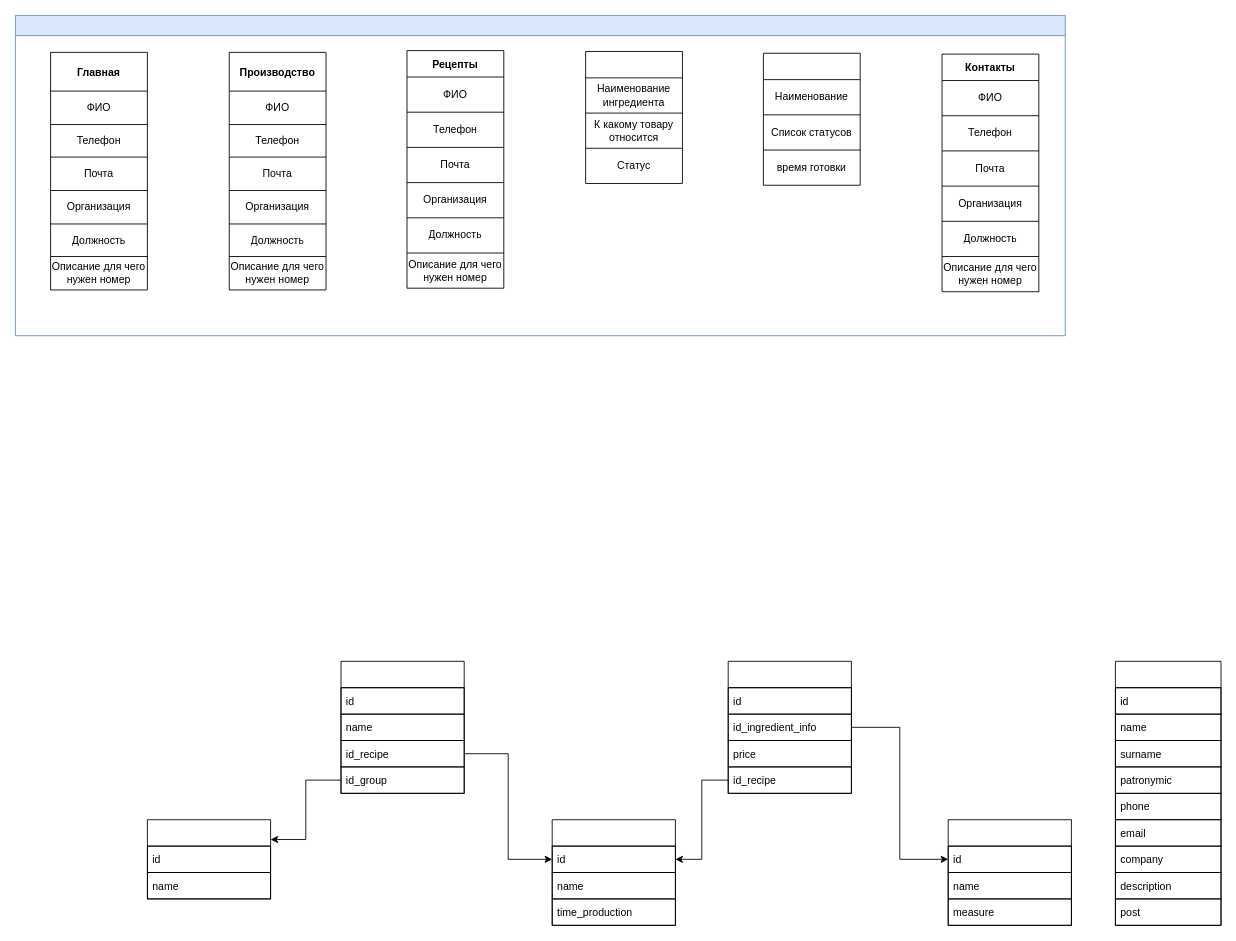
Image size: 1236x941. Some labels were removed from this diagram. The shapes that lost their labels are listed below. From the top down, each one's box as (x1, y1, x2, y2) in pixels, then its label:
(585, 51, 682, 183): Закупки
(763, 52, 860, 185): Группы товаров
(15, 15, 1065, 336): Страницы
(340, 660, 464, 793): products
(727, 660, 851, 793): ingredients
(1115, 660, 1221, 925): contacts
(147, 819, 271, 899): product_groups
(551, 819, 675, 925): recipes
(947, 819, 1071, 925): ingredient_info
